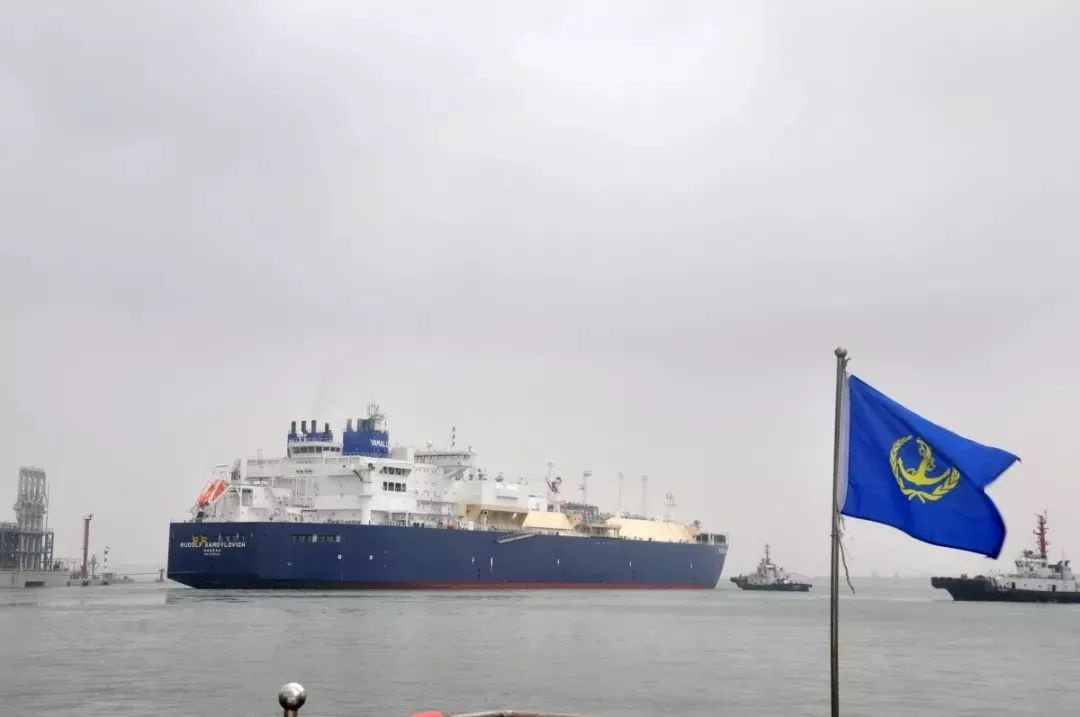Cargoship: (166, 399, 733, 594)
otherboat: (918, 508, 1080, 603), (734, 539, 813, 592)
